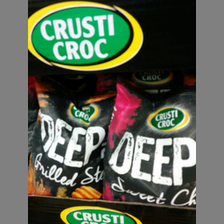chips: (101, 84, 195, 205), (29, 83, 114, 199)
